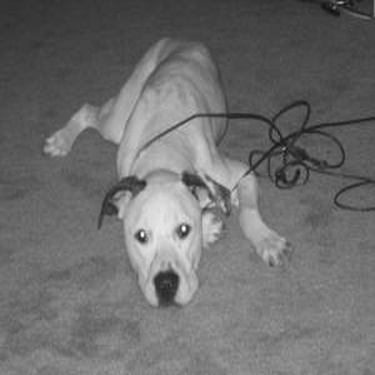dog: (41, 23, 306, 307)
